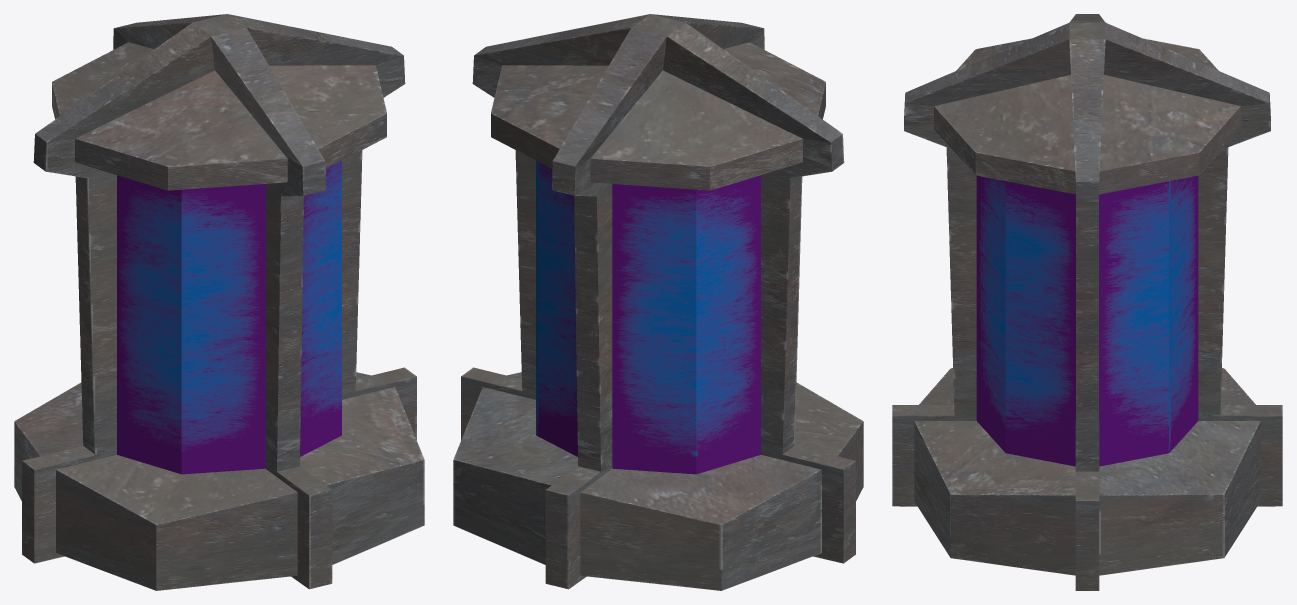
Rendered from NewLantern.glb.
3 views of the same model, side by side, from view 1: azimuth 30°, elevation 25°; view 2: azimuth 150°, elevation 25°; view 3: azimuth 270°, elevation 25° (orthographic). The views are drawn at different scales.
Parts seen in each view (by area): view 1: Cube; view 2: Cube; view 3: Cube.
Part boxes in pixels (<box>): Cube: <box>14,14,424,590</box>; Cube: <box>453,14,863,590</box>; Cube: <box>892,14,1282,590</box>.
Size of the model in its own units: 1.06 by 1.3 by 0.9757.
Materials: 2 (2 with a texture image).
